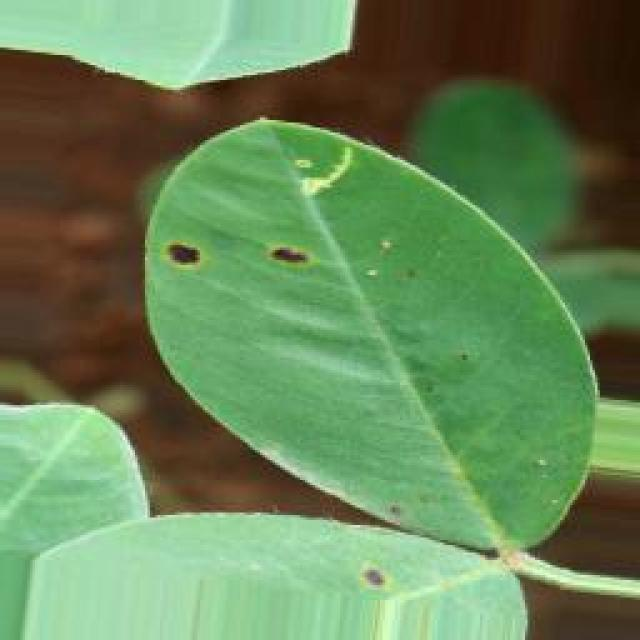Sigatoka: (240, 229, 314, 304), (151, 214, 216, 292), (343, 552, 397, 598)
